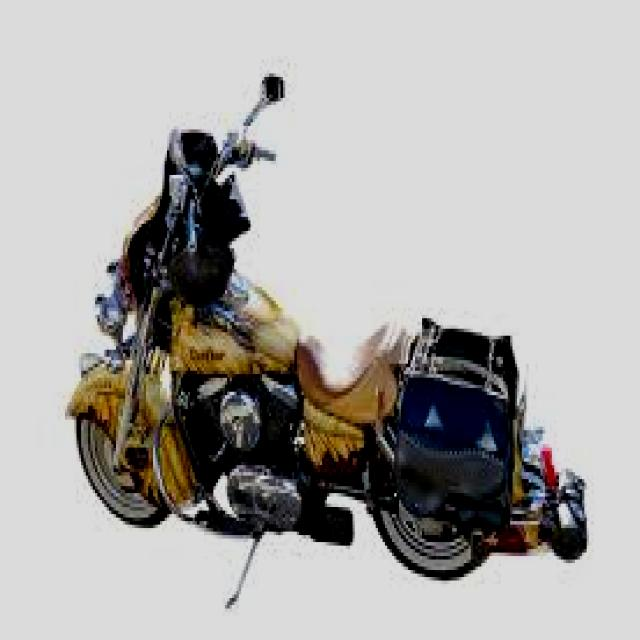MOTORCYCLE: (67, 256, 589, 588)
